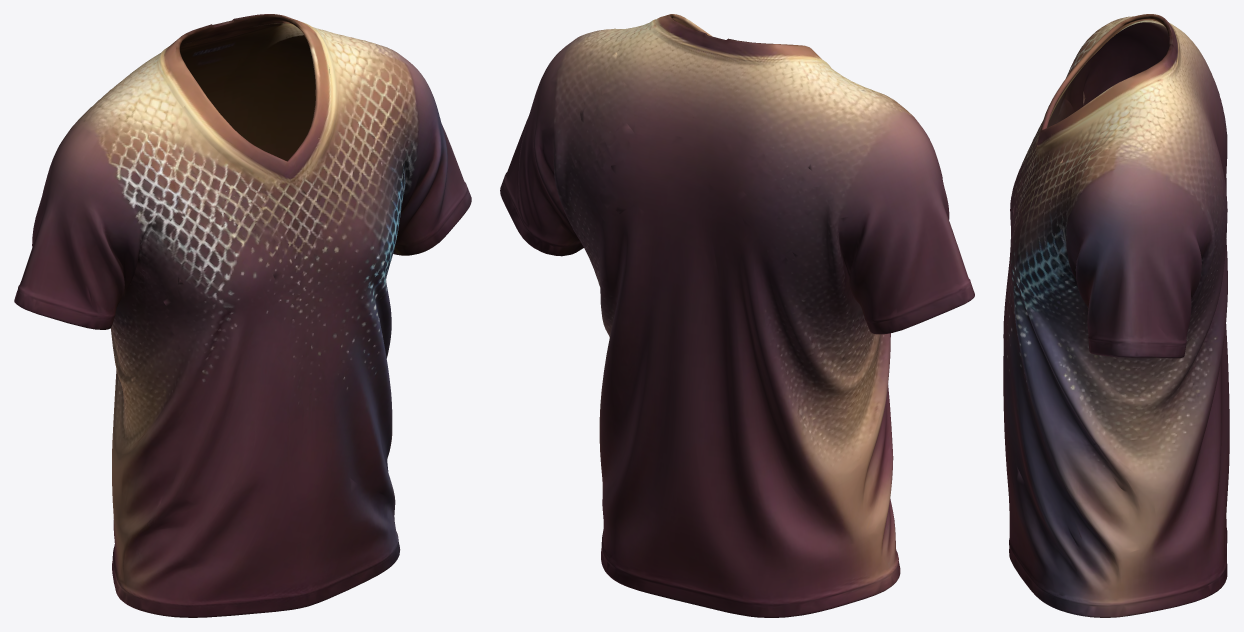
Rendered from DMS -01.glb.
3 renders of one model, left to right at view 1: azimuth 30°, elevation 25°; view 2: azimuth 150°, elevation 25°; view 3: azimuth 270°, elevation 25°, orthographic. The views are drawn at different scales.
Parts seen in each view (by area): view 1: Mesh_0; view 2: Mesh_0; view 3: Mesh_0.
Part boxes in pixels (x1=…): Mesh_0: x1=14, y1=14, x2=471, y2=617; Mesh_0: x1=500, y1=14, x2=974, y2=617; Mesh_0: x1=1003, y1=14, x2=1229, y2=617.
Bounding box in the file's own units: 0.9578 × 1.07 × 0.4231.
1 material, 1 textured.
